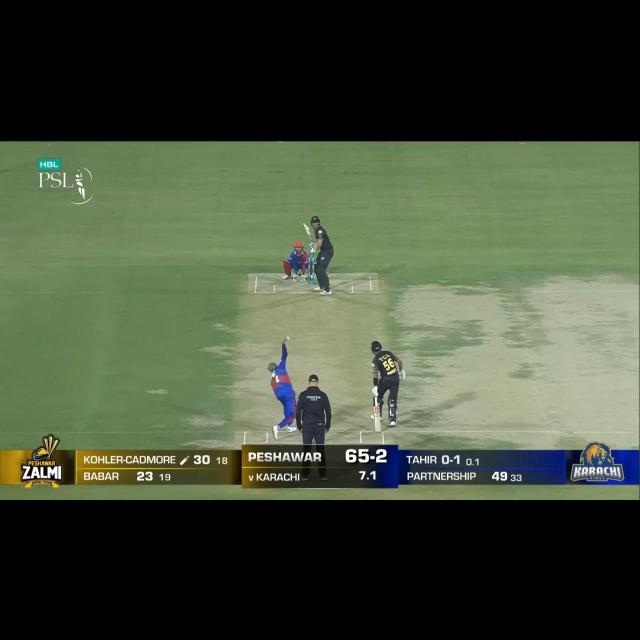bat: (301, 223, 316, 245), (373, 406, 382, 433)
toe: (374, 427, 381, 433), (302, 222, 308, 228)
